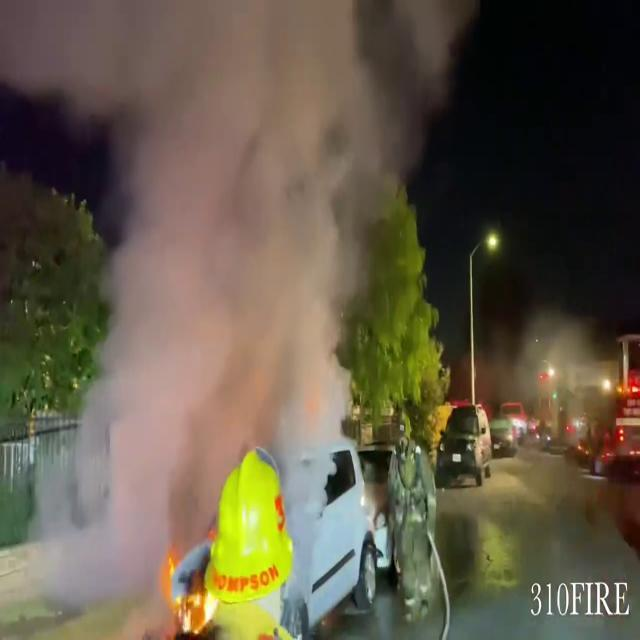Smoke: (38, 0, 426, 624)
